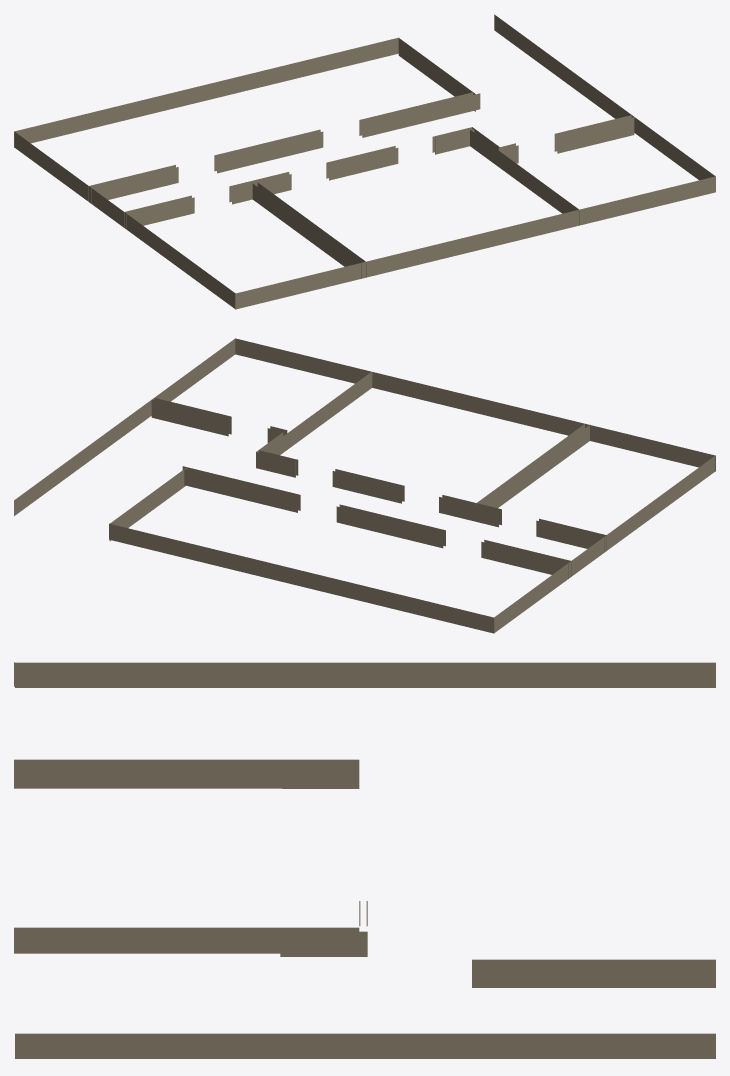
Rendered from Wall002.fbx.
3 views of the same model, one above another, from view 1: azimuth 30°, elevation 25°; view 2: azimuth 150°, elevation 25°; view 3: azimuth 270°, elevation 25° (orthographic). The views are drawn at different scales.
Parts seen in each view (by area): view 1: Wall002; view 2: Wall002; view 3: Wall002.
Boxes of the visible parts, bbox=[...] form: Wall002: bbox=[14, 14, 715, 309]; Wall002: bbox=[14, 338, 715, 633]; Wall002: bbox=[14, 662, 715, 1058].
Size of the model in its own units: 2502 by 89.35 by 1998.
